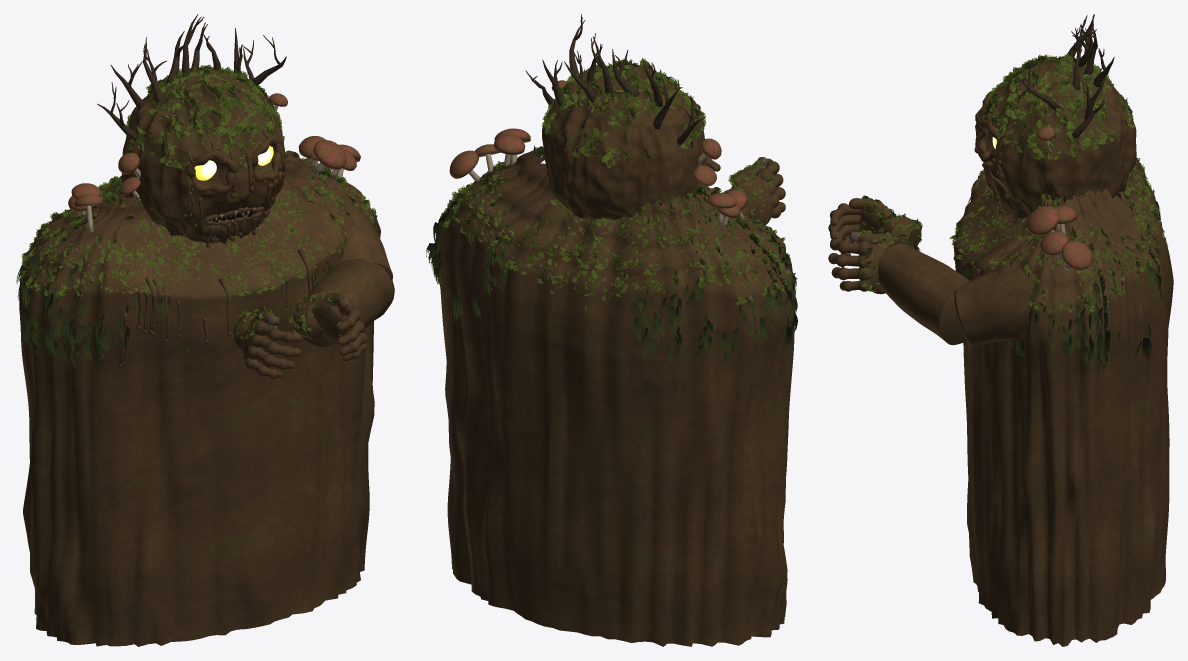
Rendered from swamp_man.glb.
The picture shows the model from 3 angles, left to right: view 1: azimuth 30°, elevation 25°; view 2: azimuth 150°, elevation 25°; view 3: azimuth 270°, elevation 25°; orthographic projection. The views are drawn at different scales.
Parts seen in each view (by area): view 1: Body, Face, BodyMoss_Fur, HeadMoss_Fur, BodyMossHang_Fur, SleeveFore, Twigs, Hand_R, Hand_L, Face_Drips, Body_ShroomCaps, Body_Drips (+4 smaller); view 2: Body, Face, BodyMoss_Fur, BodyMossHang_Fur, HeadMoss_Fur, Twigs, Body_ShroomCaps, Hand_L, Shroom_Caps, Hand_L_Fur; view 3: Body, Face, HeadMoss_Fur, BodyMoss_Fur, SleeveFore, SleeveUpper, BodyMossHang_Fur, Hand_L, Hand_R, Twigs, Body_ShroomCaps, Face_Drips (+3 smaller).
Part boxes in pixels (box(x1,y1,x2,y2)): Body: box(19, 150, 380, 646); Face: box(121, 69, 284, 243); BodyMoss_Fur: box(20, 151, 377, 296); HeadMoss_Fur: box(126, 64, 282, 169); BodyMossHang_Fur: box(16, 225, 373, 368); SleeveFore: box(302, 259, 394, 346); Twigs: box(97, 14, 286, 138); Hand_R: box(293, 292, 366, 361); Hand_L: box(234, 308, 302, 378); Face_Drips: box(183, 125, 286, 248); Body_ShroomCaps: box(68, 136, 360, 211); Body_Drips: box(118, 244, 344, 367); Body: box(435, 150, 795, 646); Face: box(542, 64, 707, 219); BodyMoss_Fur: box(440, 145, 797, 315); BodyMossHang_Fur: box(426, 201, 797, 366); HeadMoss_Fur: box(542, 58, 706, 168); Twigs: box(525, 14, 705, 145); Body_ShroomCaps: box(449, 128, 747, 217); Hand_L: box(724, 157, 785, 224); Shroom_Caps: box(551, 80, 721, 186); Hand_L_Fur: box(721, 160, 774, 222); Body: box(953, 159, 1173, 646); Face: box(978, 57, 1136, 219); HeadMoss_Fur: box(979, 54, 1134, 161); BodyMoss_Fur: box(949, 158, 1167, 315); SleeveFore: box(878, 242, 969, 345); SleeveUpper: box(954, 268, 1035, 346); BodyMossHang_Fur: box(961, 193, 1164, 373); Hand_L: box(828, 198, 921, 255); Hand_R: box(828, 231, 914, 294); Twigs: box(1015, 14, 1114, 138); Body_ShroomCaps: box(1026, 205, 1092, 270); Face_Drips: box(974, 95, 1013, 214).
Size of the model in its own units: 1.15 by 1.77 by 1.01.
Materials: 13 (6 with a texture image).
